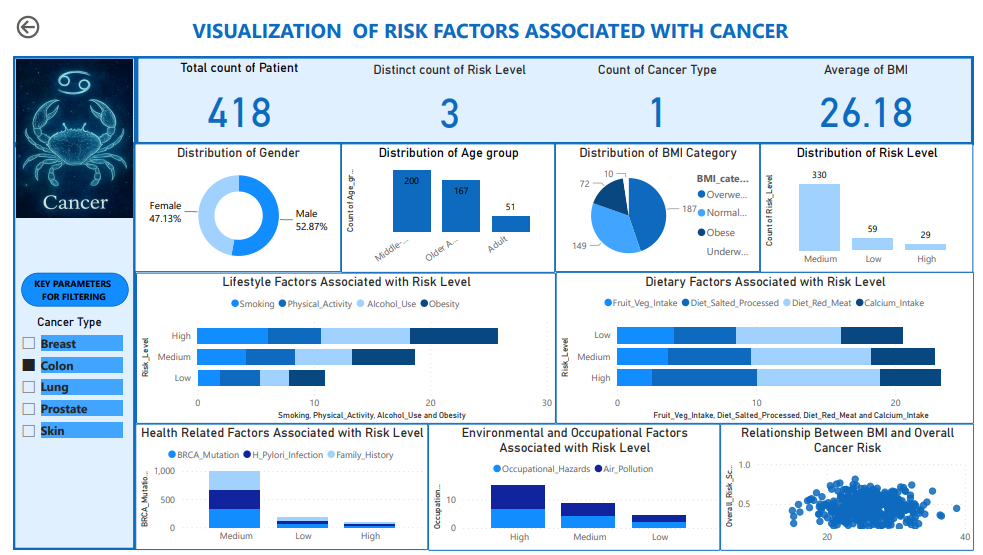

What the dashboard file says about the page in this screenshot:
{"tool":"powerbi","page":{"name":"Page 1","canvas":[1280,720],"ordinal":0},"visuals":[{"type":"shape","box":[0,176.6,163.2,539.7],"z":500},{"type":"textbox","box":[0,0,1279.3,58.6],"z":1000},{"type":"actionButton","box":[0,0,100,40],"z":2000},{"type":"slicer","title":"Cancer Type","fields":{"Values":["cancer-risk-factors.Cancer_Type"]},"box":[0,403.3,151.4,212],"z":3000},{"type":"shape","box":[163.8,58.6,1115.5,117.2],"z":4000},{"type":"shape","box":[0,58.6,163.8,117.2],"z":5000},{"type":"card","title":"Total count of Patient","fields":{"Values":["CountNonNull(cancer-risk-factors.Patient_ID)"]},"box":[192.3,64.1,219.2,106.2],"z":6000},{"type":"card","title":"Distinct count of Risk Level","fields":{"Values":["Count(cancer-risk-factors.Risk_Level)"]},"box":[470.5,65.8,222.6,106.2],"z":7000},{"type":"card","title":"Count of Cancer Type","fields":{"Values":["Count(cancer-risk-factors.Cancer_Type)"]},"box":[748.8,65.8,219.2,104.6],"z":8000},{"type":"card","title":"Average of BMI","fields":{"Values":["Avg(cancer-risk-factors.BMI)"]},"box":[1027,65.8,219.2,104.6],"z":9000},{"type":"donutChart","title":"Distribution of Gender ","fields":{"Category":["cancer-risk-factors.Gender"],"Y":["CountNonNull(cancer-risk-factors.Gender)"]},"box":[162,175.4,275.3,170.6],"z":10000},{"type":"columnChart","title":"Distribution of Age group","fields":{"Category":["cancer-risk-factors.Age_group"],"Y":["CountNonNull(cancer-risk-factors.Age_group)"]},"box":[436.8,175.4,285,172],"z":11000},{"type":"pieChart","title":"Distribution of BMI Category","fields":{"Category":["cancer-risk-factors.BMI_category"],"Y":["CountNonNull(cancer-risk-factors.BMI_category)"]},"box":[721.8,175.4,273.2,170.3],"z":12000},{"type":"columnChart","title":"Distribution of Risk Level","fields":{"Category":["cancer-risk-factors.Risk_Level"],"Y":["CountNonNull(cancer-risk-factors.Risk_Level)"]},"box":[994.9,175.6,283.3,170.5],"z":13000},{"type":"barChart","title":"Dietary Factors Associated with Risk Level","fields":{"Category":["cancer-risk-factors.Risk_Level"],"Y":["Avg(cancer-risk-factors.Fruit_Veg_Intake)","Avg(cancer-risk-factors.Diet_Salted_Processed)","Avg(cancer-risk-factors.Diet_Red_Meat)","Avg(cancer-risk-factors.Calcium_Intake)"]},"box":[723.2,346.4,557.1,201.8],"z":14000},{"type":"barChart","title":"Lifestyle Factors Associated with Risk Level","fields":{"Category":["cancer-risk-factors.Risk_Level"],"Y":["Avg(cancer-risk-factors.Smoking)","Avg(cancer-risk-factors.Physical_Activity)","Avg(cancer-risk-factors.Alcohol_Use)","Avg(cancer-risk-factors.Obesity)"]},"box":[163.6,347.4,559.9,200.7],"z":15000},{"type":"columnChart","title":"Health Related Factors Associated with Risk Level","fields":{"Category":["cancer-risk-factors.Risk_Level"],"Y":["CountNonNull(cancer-risk-factors.BRCA_Mutation)","CountNonNull(cancer-risk-factors.H_Pylori_Infection)","CountNonNull(cancer-risk-factors.Family_History)"]},"box":[163.2,548.2,389.8,168.1],"z":16000},{"type":"columnChart","title":"Environmental and Occupational Factors Associated with Risk Level","fields":{"Category":["cancer-risk-factors.Risk_Level"],"Y":["Avg(cancer-risk-factors.Occupational_Hazards)","Avg(cancer-risk-factors.Air_Pollution)"]},"box":[553.3,548.3,388.3,168.3],"z":17000},{"type":"scatterChart","title":"Relationship Between BMI and Overall Cancer Risk","fields":{"Y":["cancer-risk-factors.Overall_Risk_Score"],"X":["Sum(cancer-risk-factors.BMI)"]},"box":[941.7,548.3,338.3,168.3],"z":18000},{"type":"shape","box":[11,346.8,143.1,45.4],"z":19000},{"type":"textbox","box":[12.4,346.8,139,45.4],"z":20000},{"type":"image","box":[0,57.8,163.8,220.2],"z":21000}]}

Visuals, with their boxes in screenshot pixels (x1, y1, x2, y2), scaled from the page's 1280x720 canvas onto the 983x555 screenshot:
shape: box(0, 136, 125, 552)
textbox: box(0, 0, 982, 45)
actionButton: box(0, 0, 77, 31)
"Cancer Type" slicer: box(0, 311, 116, 474)
shape: box(126, 45, 982, 136)
shape: box(0, 45, 126, 136)
"Total count of Patient" card: box(148, 49, 316, 131)
"Distinct count of Risk Level" card: box(361, 51, 532, 133)
"Count of Cancer Type" card: box(575, 51, 743, 131)
"Average of BMI" card: box(789, 51, 957, 131)
"Distribution of Gender " donutChart: box(124, 135, 336, 267)
"Distribution of Age group" columnChart: box(335, 135, 554, 268)
"Distribution of BMI Category" pieChart: box(554, 135, 764, 266)
"Distribution of Risk Level" columnChart: box(764, 135, 982, 267)
"Dietary Factors Associated with Risk Level" barChart: box(555, 267, 982, 423)
"Lifestyle Factors Associated with Risk Level" barChart: box(126, 268, 556, 422)
"Health Related Factors Associated with Risk Level" columnChart: box(125, 423, 425, 552)
"Environmental and Occupational Factors Associated with Risk Level" columnChart: box(425, 423, 723, 552)
"Relationship Between BMI and Overall Cancer Risk" scatterChart: box(723, 423, 982, 552)
shape: box(8, 267, 118, 302)
textbox: box(10, 267, 116, 302)
image: box(0, 45, 126, 214)
